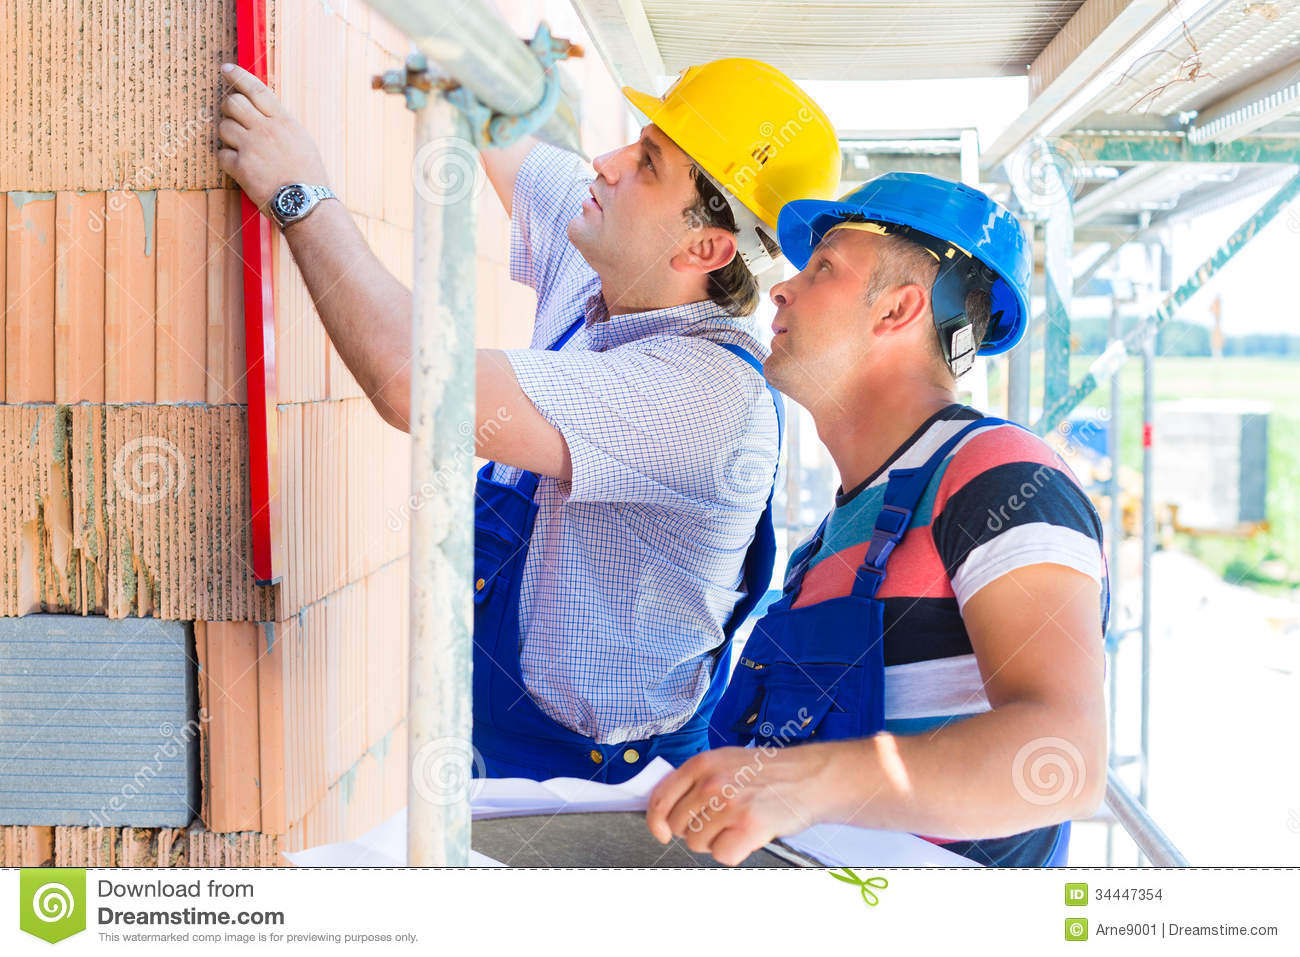With Helmet: (566, 37, 846, 304), (776, 159, 1030, 419)
